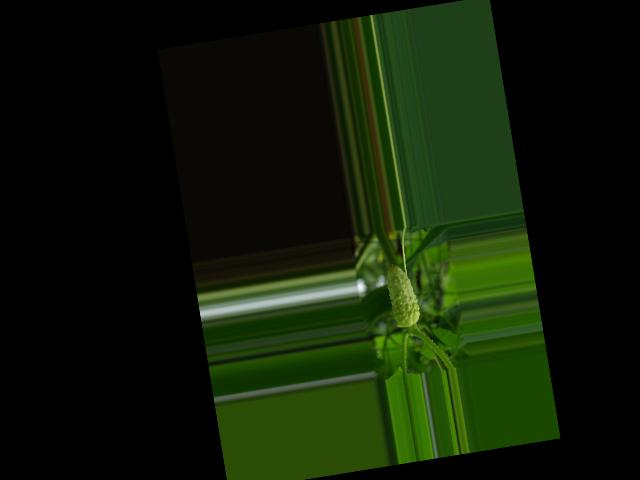cucumber: (384, 260, 422, 329)
